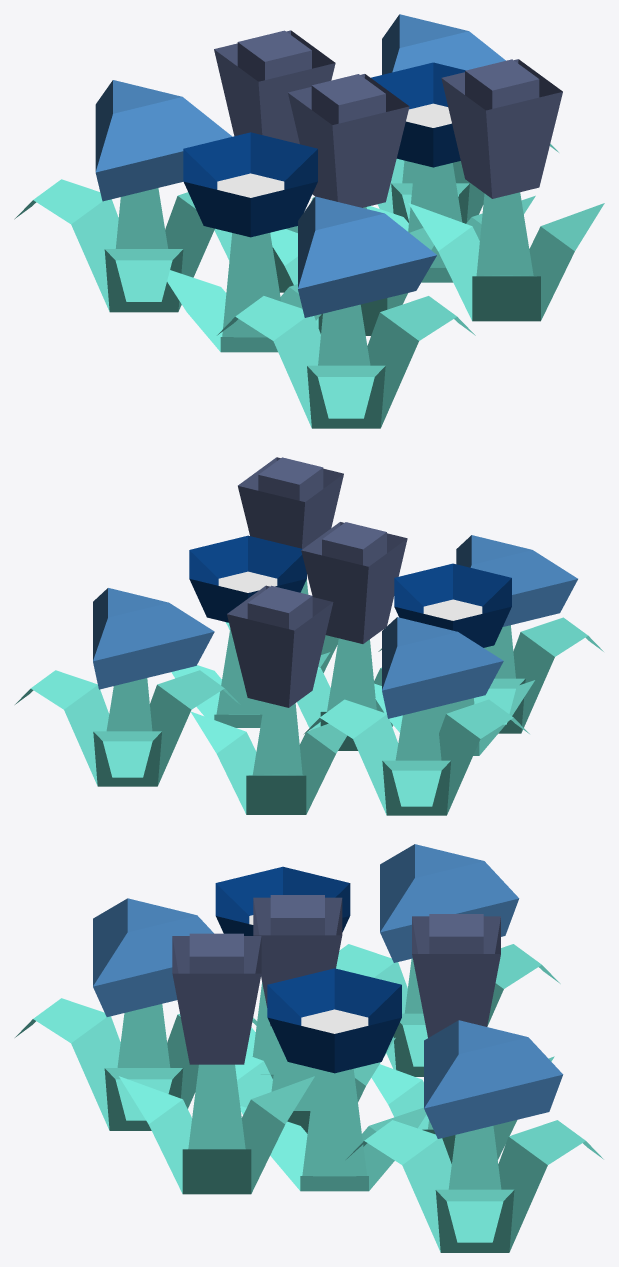
File: flowerBlue01.fbx
3 views of the same model, one above another, from view 1: azimuth 30°, elevation 25°; view 2: azimuth 150°, elevation 25°; view 3: azimuth 270°, elevation 25° (orthographic). The views are drawn at different scales.
Parts seen in each view (by area): view 1: flower_purpleB3; view 2: flower_purpleB3; view 3: flower_purpleB3.
Part boxes in pixels (x1=…): flower_purpleB3: x1=14, y1=14, x2=604, y2=428; flower_purpleB3: x1=15, y1=457, x2=603, y2=815; flower_purpleB3: x1=15, y1=844, x2=603, y2=1252.
Bounding box in the file's own units: 5.35 × 2.76 × 5.44.
